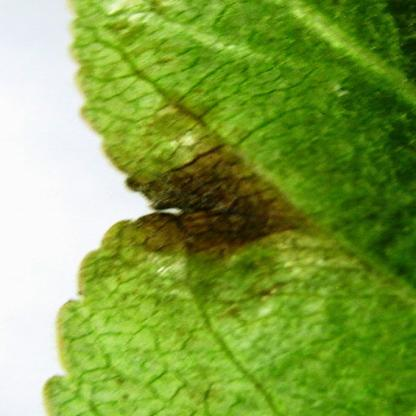Apple Scab Leaf: (9, 0, 392, 404)
